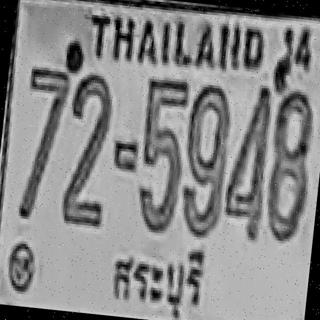N00: (182, 80, 233, 179)
N02: (59, 107, 112, 225), (63, 72, 114, 193)
N07: (19, 63, 72, 170)
N08: (262, 88, 316, 242)
N09: (176, 86, 232, 238)
P60: (104, 235, 212, 320)
